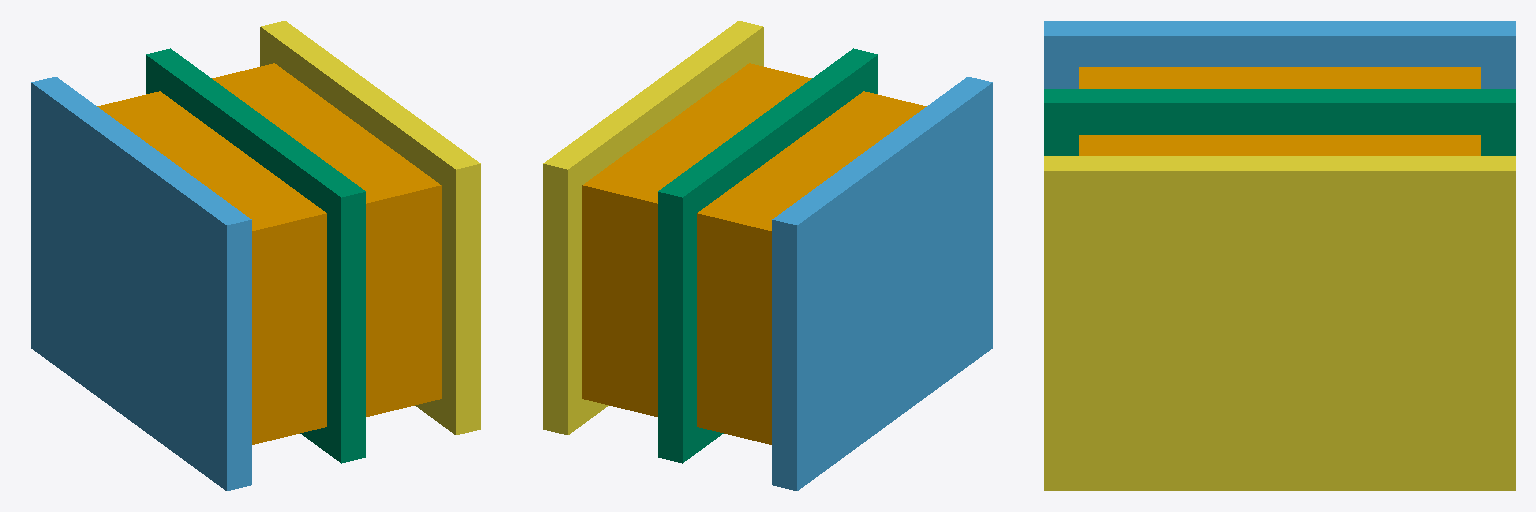
robot.urdf — debris026:
<?xml version="1.0" ?>
<robot name="debris026">

<link name="debris026">
<visual> <origin xyz="0 0 0" rpy="0 0 0" />
<geometry> <box size="0.50 0.58 0.41"/> </geometry>
</visual>
<collision> <origin xyz="0 0 0" rpy="0 0 0" />
<geometry> <box size="0.50 0.58 0.41"/> </geometry>
</collision>
<inertial> <origin xyz="0 0 0" rpy="0 0 0" />
<mass value="10.0" />
<inertia ixx="0.4062" ixy="0" ixz="0" iyy="0.4062" iyz="0" izz="0.4062" />
</inertial>
</link>
<gazebo reference="debris026"> <material>Gazebo/WoodPallet</material> </gazebo>

<link name="debris0260">
<visual> <origin xyz="-0.23 0 0" rpy="0 0 0" />
<geometry> <box size="0.05 0.68 0.51"/> </geometry>
</visual>
<collision> <origin xyz="-0.23 0 0" rpy="0 0 0" />
<geometry> <box size="0.05 0.68 0.51"/> </geometry>
</collision>
<inertial> <origin xyz="0 0 0" rpy="0 0 0" />
<mass value="0.1" />
<inertia ixx="0.0100" ixy="0" ixz="0" iyy="0.0100" iyz="0" izz="0.0100" />
</inertial>
</link>
<gazebo reference="debris0260"> <material>Gazebo/WoodPallet</material> </gazebo>

<joint name="debris0260joint" type="fixed">
<parent link="debris026"/>
<child link="debris0260"/>
<origin xyz="0 0 0" rpy="0 0 0" />
</joint>

<link name="debris0261">
<visual> <origin xyz="0.00 0 0" rpy="0 0 0" />
<geometry> <box size="0.05 0.68 0.51"/> </geometry>
</visual>
<collision> <origin xyz="0.00 0 0" rpy="0 0 0" />
<geometry> <box size="0.05 0.68 0.51"/> </geometry>
</collision>
<inertial> <origin xyz="0 0 0" rpy="0 0 0" />
<mass value="0.1" />
<inertia ixx="0.0100" ixy="0" ixz="0" iyy="0.0100" iyz="0" izz="0.0100" />
</inertial>
</link>
<gazebo reference="debris0261"> <material>Gazebo/WoodPallet</material> </gazebo>

<joint name="debris0261joint" type="fixed">
<parent link="debris026"/>
<child link="debris0261"/>
<origin xyz="0 0 0" rpy="0 0 0" />
</joint>

<link name="debris0262">
<visual> <origin xyz="0.23 0 0" rpy="0 0 0" />
<geometry> <box size="0.05 0.68 0.51"/> </geometry>
</visual>
<collision> <origin xyz="0.23 0 0" rpy="0 0 0" />
<geometry> <box size="0.05 0.68 0.51"/> </geometry>
</collision>
<inertial> <origin xyz="0 0 0" rpy="0 0 0" />
<mass value="0.1" />
<inertia ixx="0.0100" ixy="0" ixz="0" iyy="0.0100" iyz="0" izz="0.0100" />
</inertial>
</link>
<gazebo reference="debris0262"> <material>Gazebo/WoodPallet</material> </gazebo>

<joint name="debris0262joint" type="fixed">
<parent link="debris026"/>
<child link="debris0262"/>
<origin xyz="0 0 0" rpy="0 0 0" />
</joint>

</robot>

--- Facts derived from the render (not from the file) ---
3 views of the same robot in one strip: view 1: azimuth 30°, elevation 25°; view 2: azimuth 150°, elevation 25°; view 3: azimuth 270°, elevation 25° (orthographic).
Robot: debris026 — 4 links, 3 joints (3 fixed); root link debris026; default pose: every joint at zero.
Links seen in each view (by area): view 1: debris0260, debris026, debris0262, debris0261; view 2: debris0260, debris026, debris0262, debris0261; view 3: debris0262, debris0260, debris0261, debris026.
Link boxes in pixels (bbox=[...]): debris0260: bbox=[31, 77, 251, 490]; debris026: bbox=[97, 63, 441, 444]; debris0262: bbox=[260, 21, 480, 434]; debris0261: bbox=[146, 48, 365, 463]; debris0260: bbox=[772, 77, 992, 490]; debris026: bbox=[582, 63, 926, 444]; debris0262: bbox=[543, 21, 763, 434]; debris0261: bbox=[658, 48, 877, 463]; debris0262: bbox=[1044, 156, 1515, 490]; debris0260: bbox=[1044, 21, 1515, 88]; debris0261: bbox=[1044, 89, 1515, 155]; debris026: bbox=[1079, 67, 1480, 155].
Bounding box of the posed robot: 0.51 × 0.68 × 0.51 m (x, y, z).
Geometry: primitives only (box / cylinder / sphere), no mesh files.
